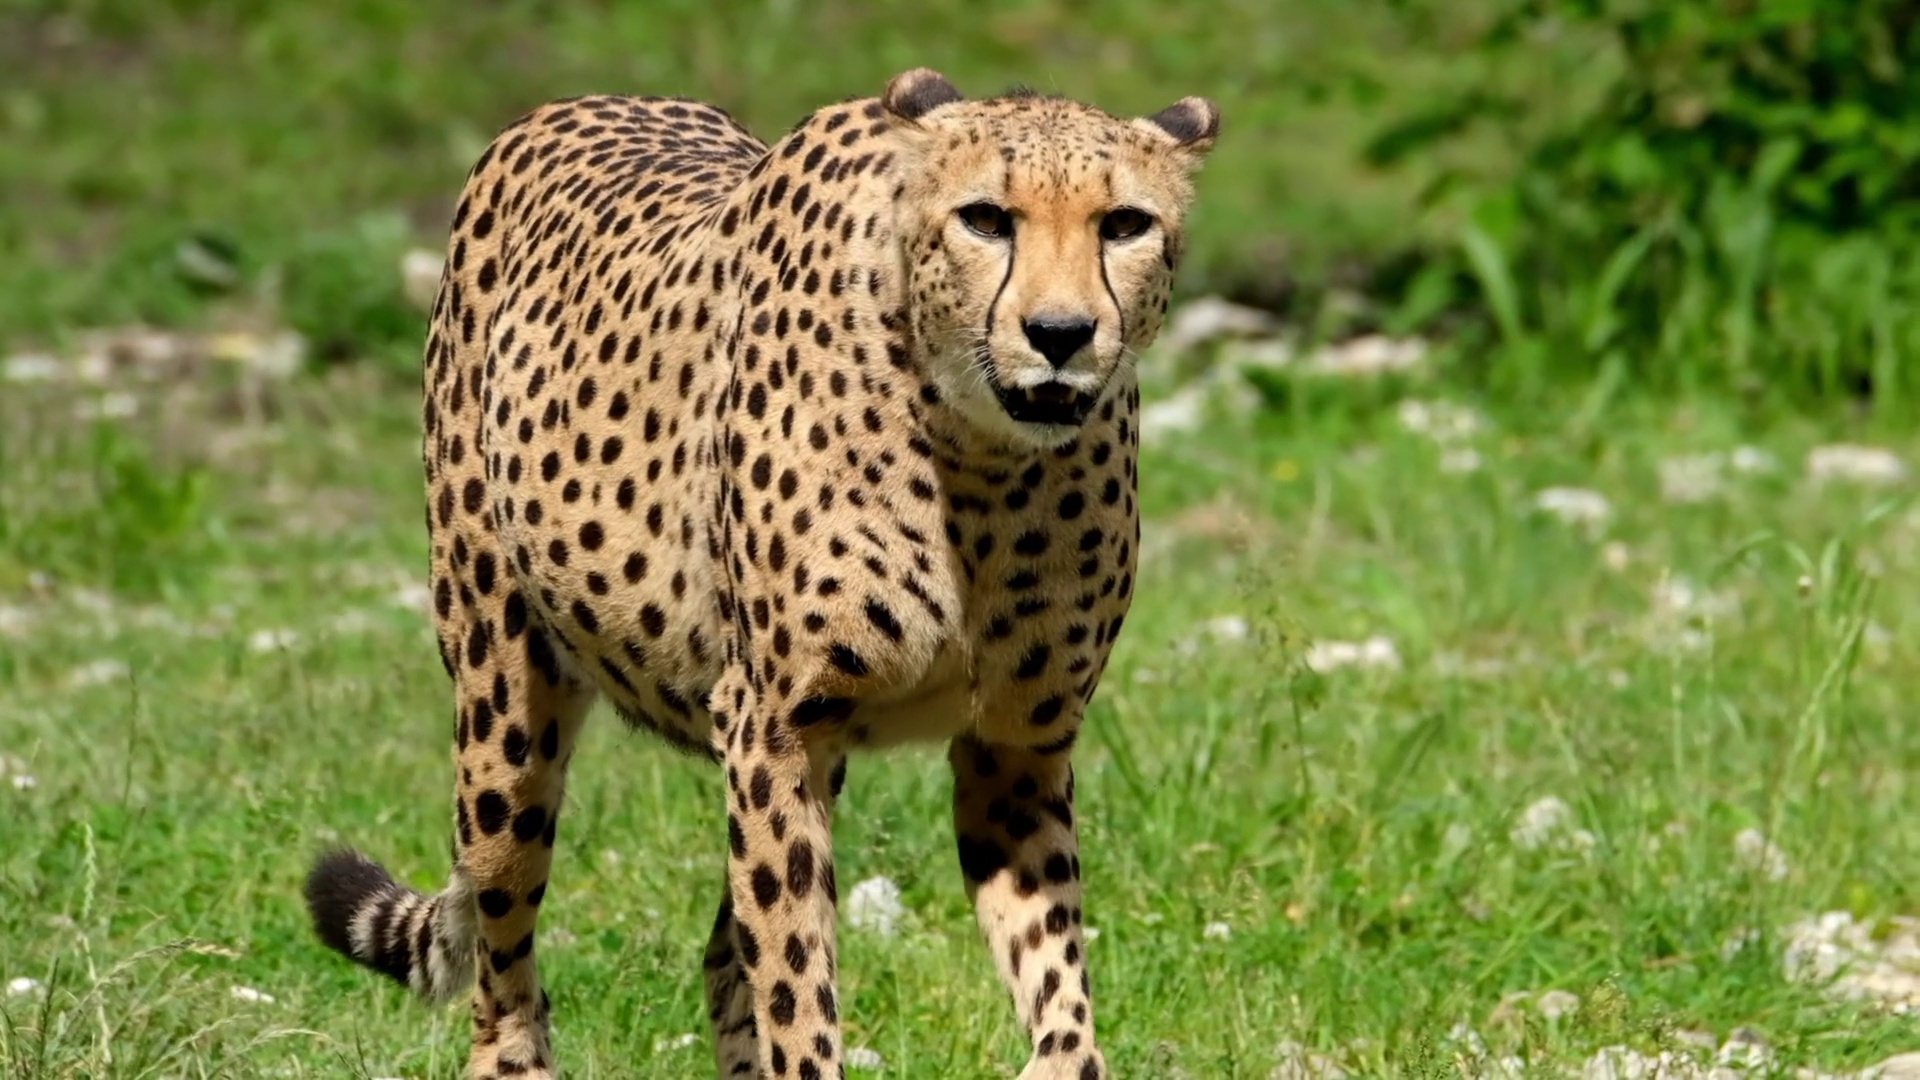Cheetah: (303, 65, 1226, 1080)
